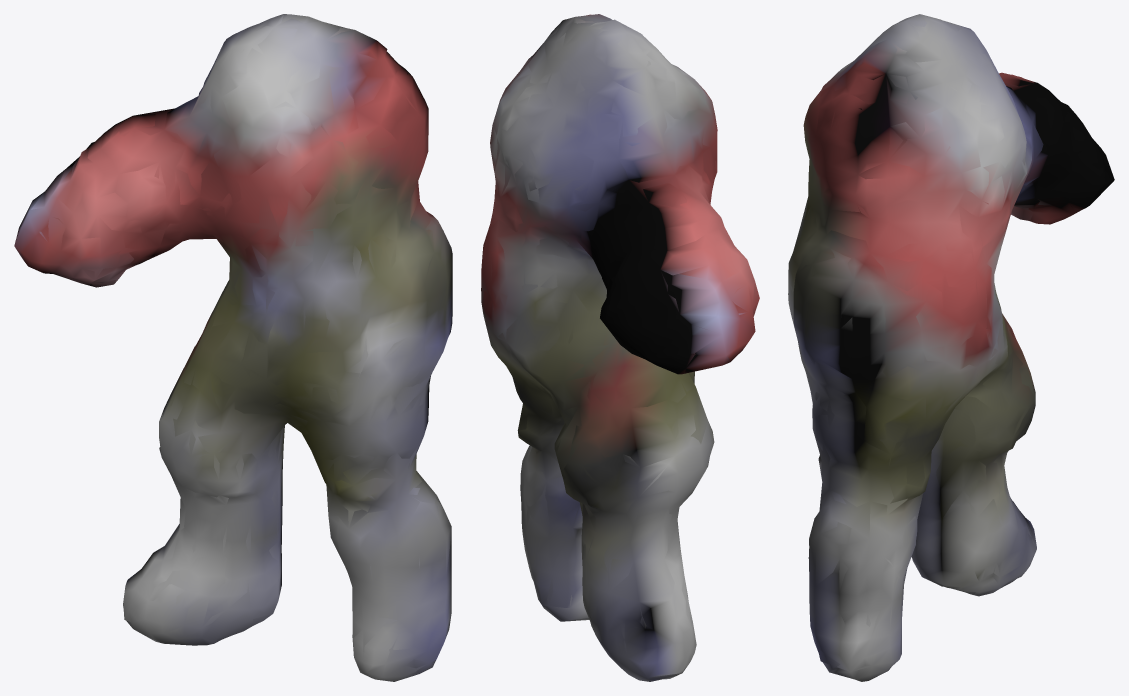
The model's file is tesla_trooper.glb.
The picture shows the model from 3 angles, left to right: view 1: azimuth 30°, elevation 25°; view 2: azimuth 150°, elevation 25°; view 3: azimuth 270°, elevation 25°; orthographic projection. The views are drawn at different scales.
Parts seen in each view (by area): view 1: tesla_trooper; view 2: tesla_trooper; view 3: tesla_trooper.
Boxes of the visible parts, x1,y1,x2,y2 form: tesla_trooper: (14,14,452,681); tesla_trooper: (481,14,759,681); tesla_trooper: (788,14,1114,681).
Size of the model in its own units: 1.19 by 2.23 by 1.05.
